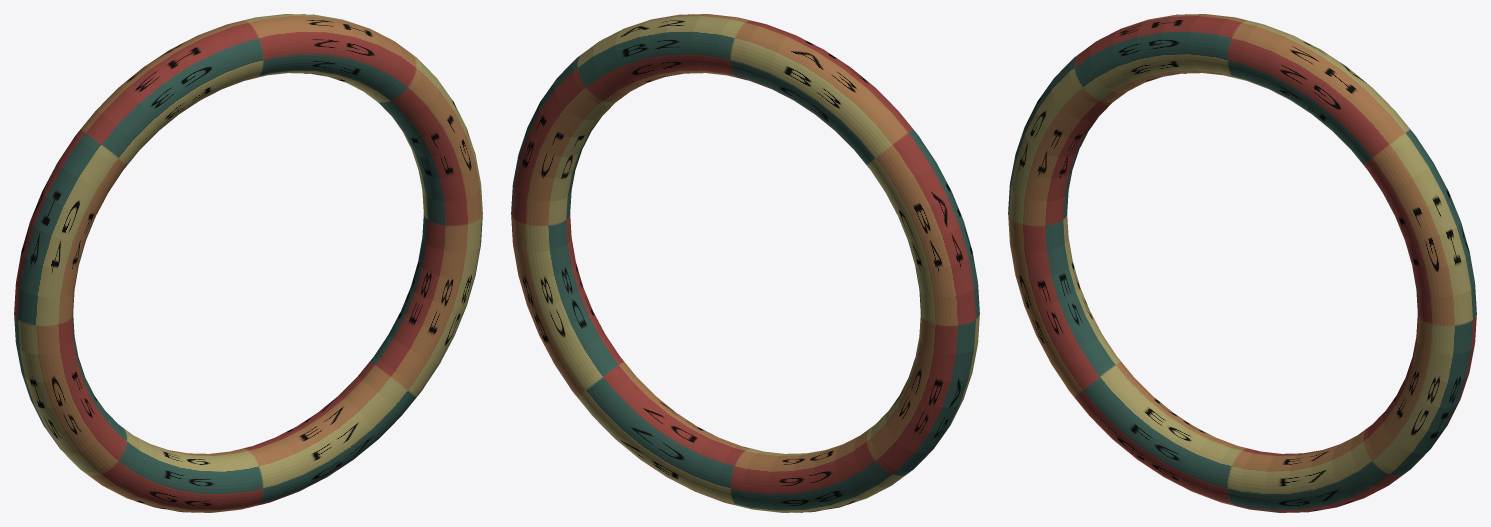
Rendered from texture_torus_R9_r0.glb.
The picture shows the model from 3 angles, left to right: view 1: azimuth 30°, elevation 25°; view 2: azimuth 150°, elevation 25°; view 3: azimuth 330°, elevation 25°; orthographic projection.
Visible parts, largest first — view 1: world; view 2: world; view 3: world.
Boxes of the visible parts, left/top/right/bottom form: world: left=14, top=14, right=482, bottom=512; world: left=511, top=14, right=979, bottom=512; world: left=1008, top=14, right=1476, bottom=512.
Size of the model in its own units: 18 by 17.96 by 2.
1 material, 1 textured.
